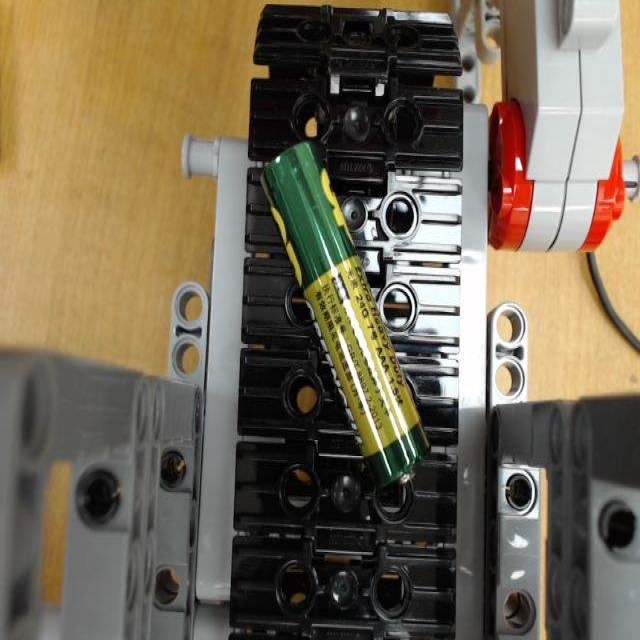AAA: (250, 136, 434, 493)
